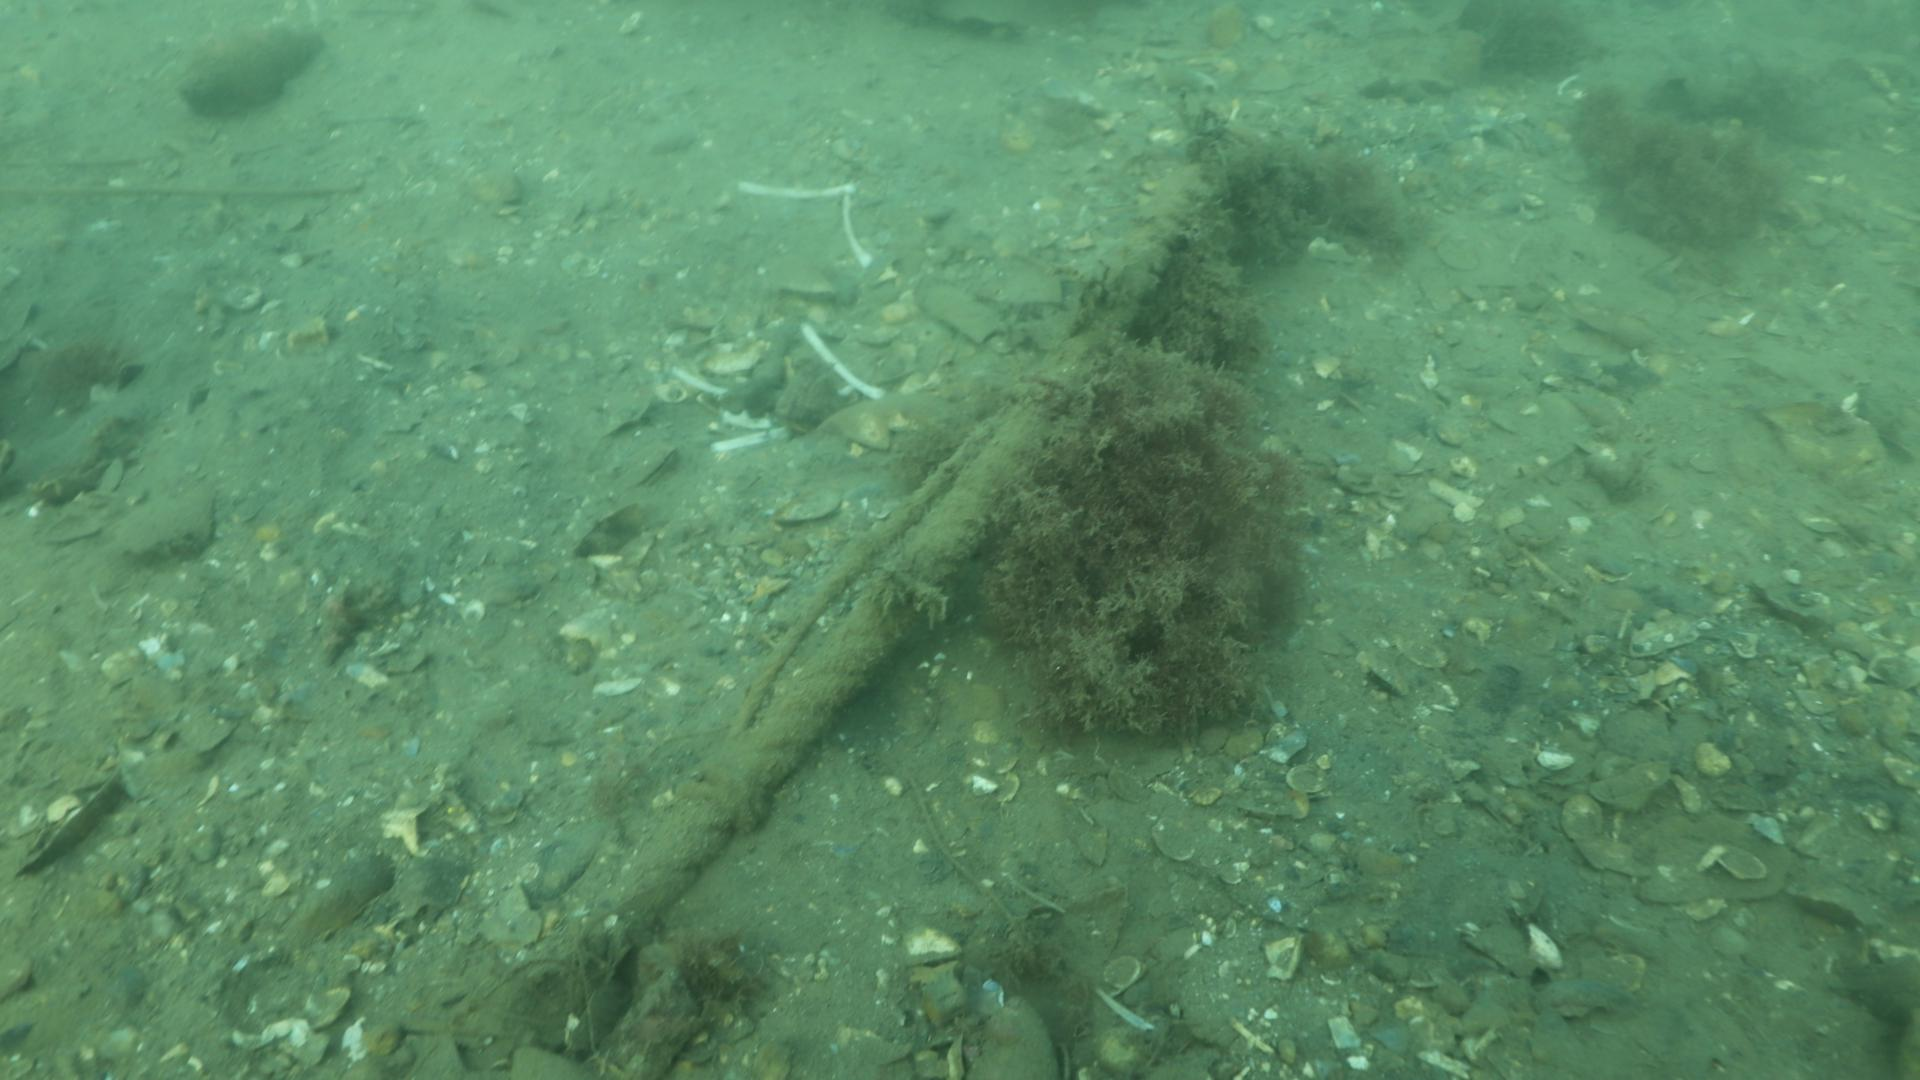rope: (512, 161, 1224, 1029)
